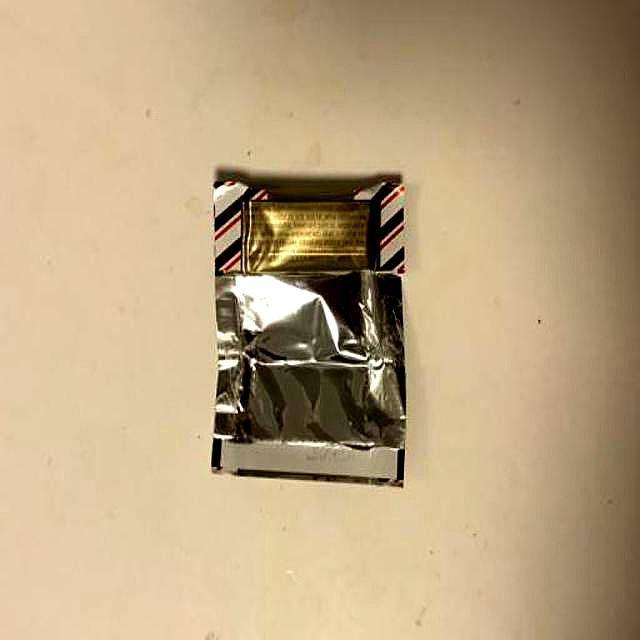Non-biodegradable: (211, 169, 410, 486)
